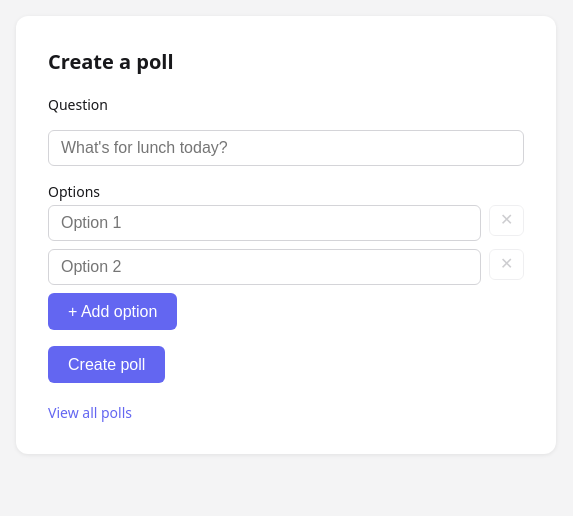
Test case: CreatePollForm › adds an option when "+ Add option" is clicked
Click the button "+ Add option" at (113, 312), box [48,293,177,330]
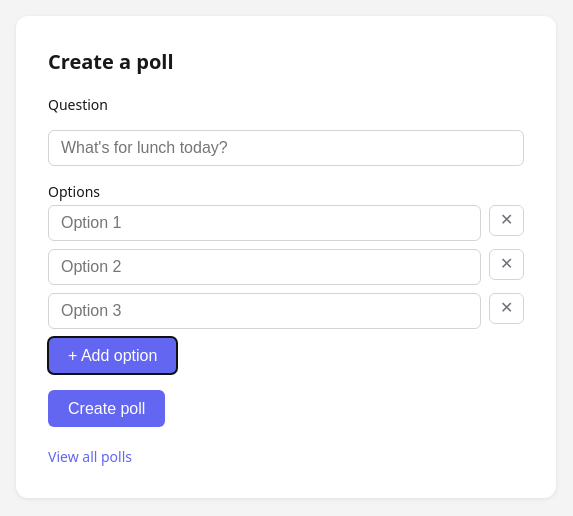
Check: the number of fields with placeholder "Option 1" is 3, box [48,205,481,241]; [48,249,481,285]; [48,293,481,329]
